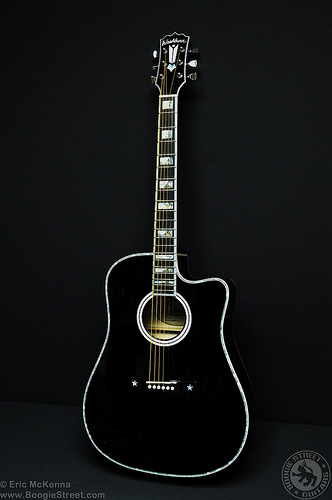guitar: (79, 30, 253, 481)
